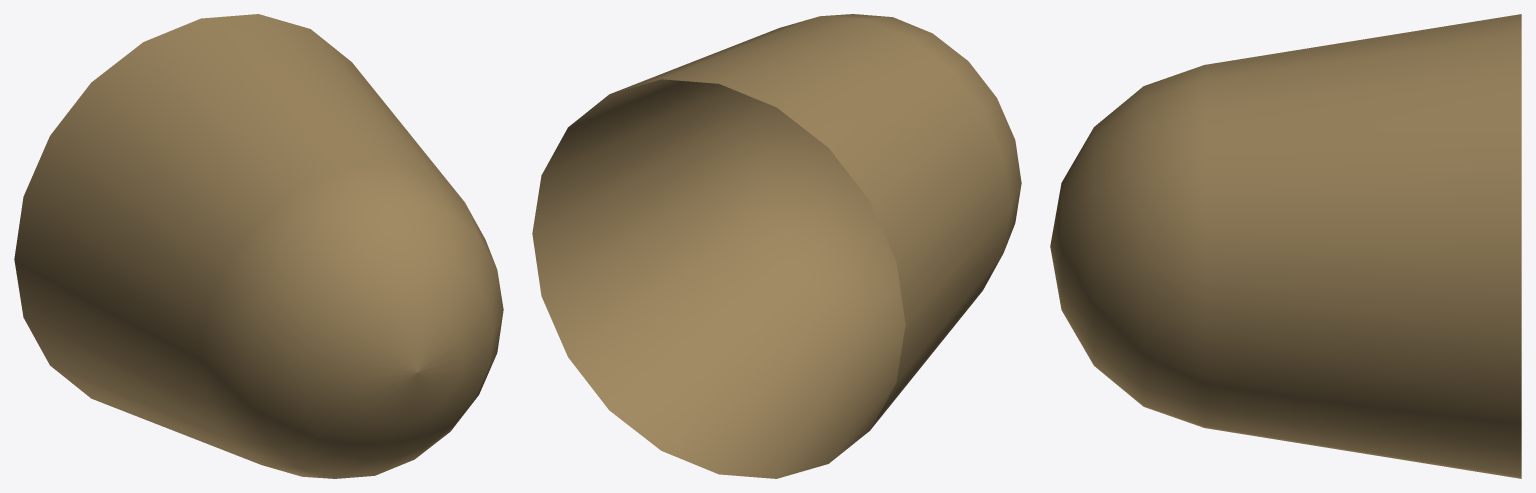
File: Hole_001.fbx
3 views of the same model, side by side, from view 1: azimuth 30°, elevation 25°; view 2: azimuth 150°, elevation 25°; view 3: azimuth 270°, elevation 25° (orthographic). The views are drawn at different scales.
Visible parts, largest first — view 1: pCylinder1; view 2: pCylinder1; view 3: pCylinder1.
Boxes of the visible parts, x1,y1,x2,y2 form: pCylinder1: (14,14,503,478); pCylinder1: (532,14,1021,478); pCylinder1: (1050,14,1521,478).
Bounding box in the file's own units: 14.65 × 14.65 × 14.75.
